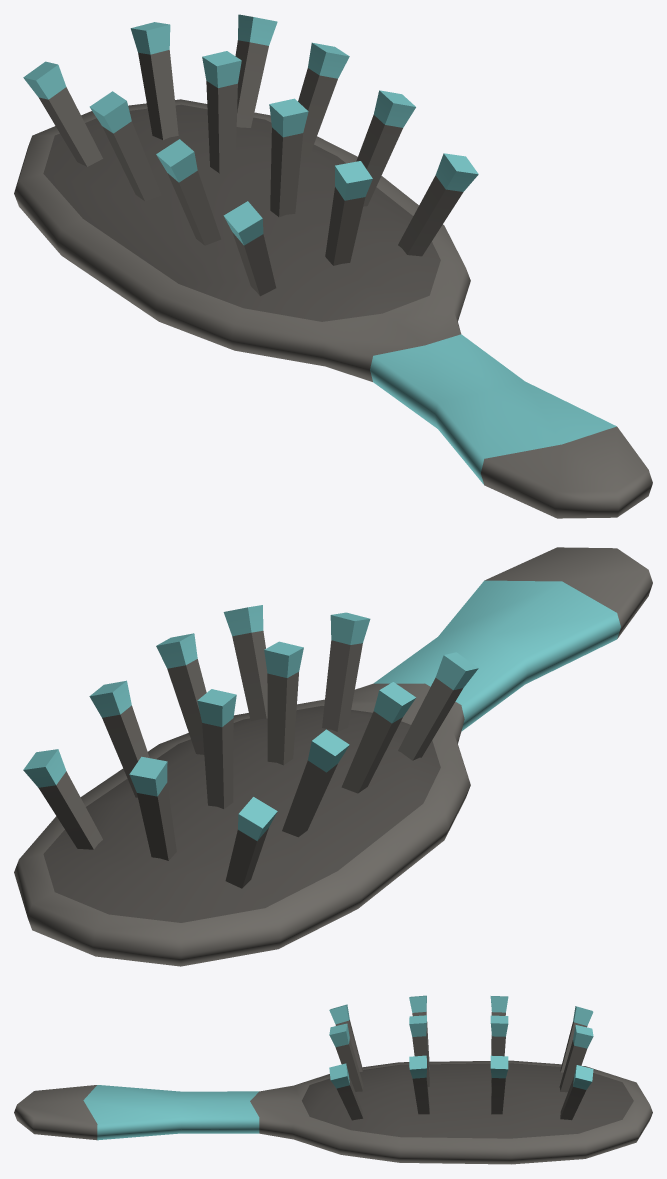
File: Hairbrush1.fbx
The picture shows the model from 3 angles, top to bottom: view 1: azimuth 30°, elevation 25°; view 2: azimuth 150°, elevation 25°; view 3: azimuth 270°, elevation 25°; orthographic projection. The views are drawn at different scales.
Parts seen in each view (by area): view 1: Hairbrush1; view 2: Hairbrush1; view 3: Hairbrush1.
Part boxes in pixels (x1=…): Hairbrush1: x1=14, y1=14, x2=652, y2=518; Hairbrush1: x1=14, y1=547, x2=652, y2=966; Hairbrush1: x1=14, y1=995, x2=652, y2=1164.
Bounding box in the file's own units: 1.97 × 1.06 × 5.88.
